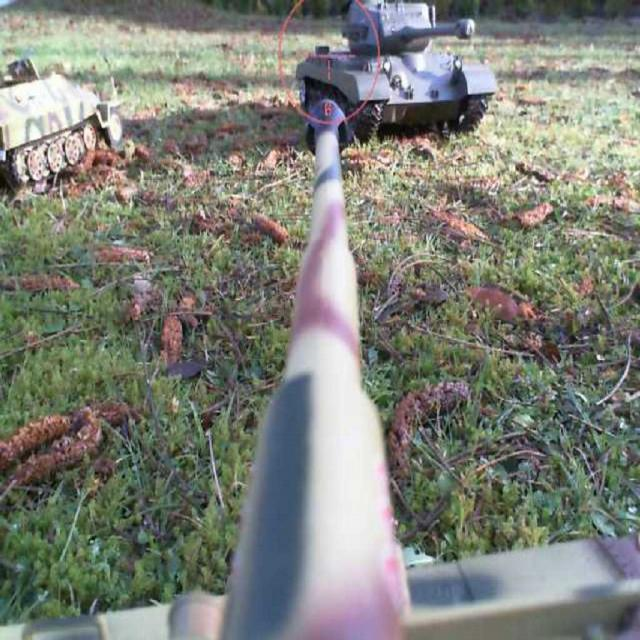tank: (0, 119, 639, 639), (294, 0, 500, 148), (0, 57, 126, 196)
